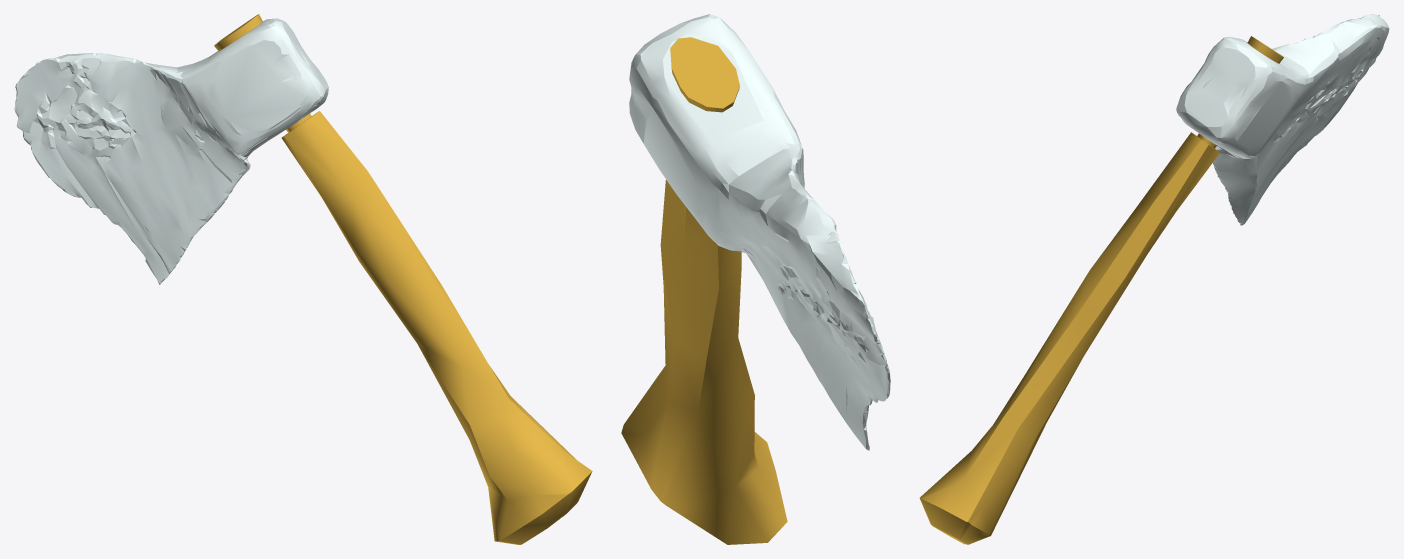
Rendered from axe-iron-38.glb.
3 views of the same model, side by side, from view 1: azimuth 30°, elevation 25°; view 2: azimuth 150°, elevation 25°; view 3: azimuth 270°, elevation 25° (orthographic). The views are drawn at different scales.
Parts seen in each view (by area): view 1: iron-axe-head, iron-axe; view 2: iron-axe-head, iron-axe; view 3: iron-axe, iron-axe-head.
Part boxes in pixels (x1,y1,x2,y2): iron-axe-head: (14, 18, 328, 284); iron-axe: (214, 14, 592, 544); iron-axe-head: (629, 14, 890, 450); iron-axe: (621, 37, 787, 544); iron-axe: (919, 36, 1283, 544); iron-axe-head: (1176, 14, 1389, 225).
Size of the model in its own units: 0.7351 by 0.8643 by 0.8188.
